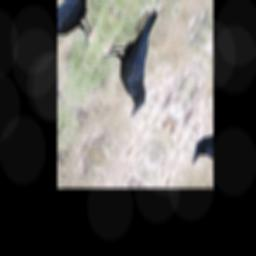Crow: (89, 0, 182, 121)
